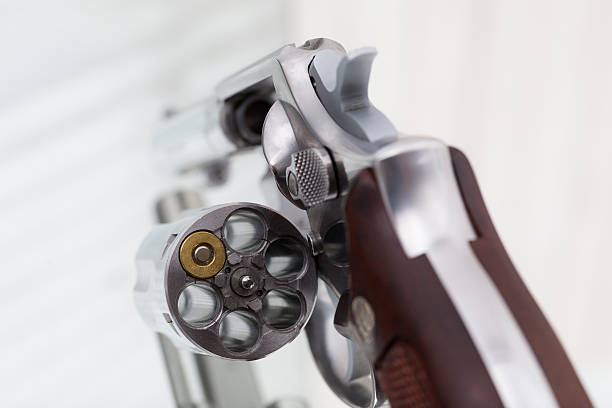pistol: (134, 35, 597, 408)
